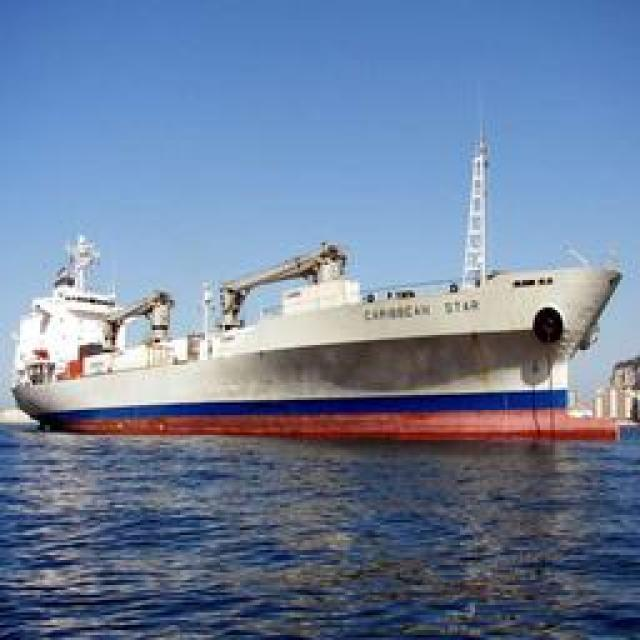ship2: (11, 141, 624, 447)
